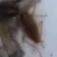cockroach: (20, 10, 40, 43)
